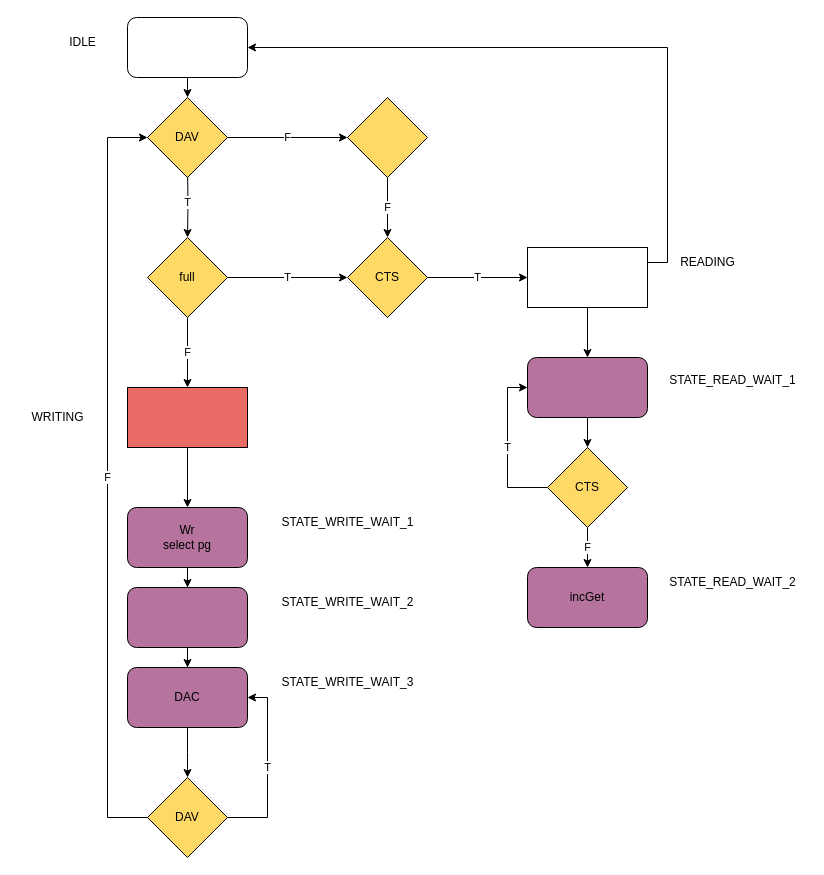
Image size: 824x875. Some labels were removed from this diagram. The shapes that lost their labels are listed below. From the top down, each one's centre as x and y in pixels, then its label:
At [387,137]: "empty".
At [587,387]: "Wreg".
At [187,417]: "select pg".
At [187,617]: "incPut".
